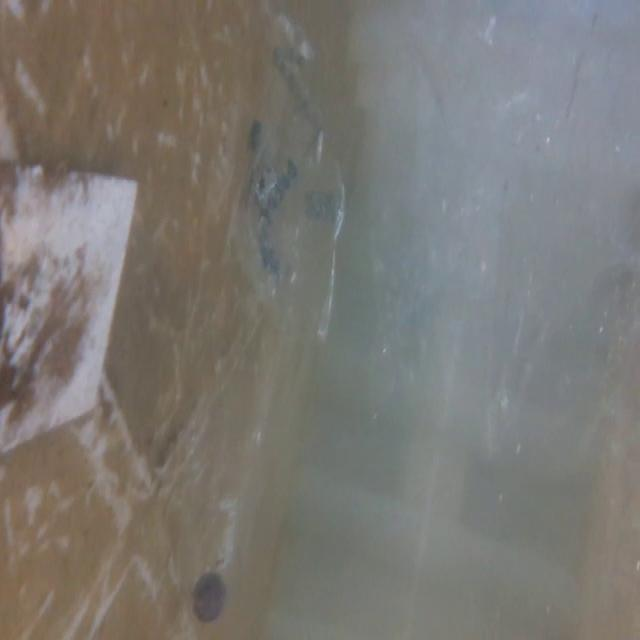metal: (0, 166, 149, 459)
plastic bags: (366, 5, 624, 423), (224, 18, 351, 351)
plastic bottle: (176, 423, 264, 627)
